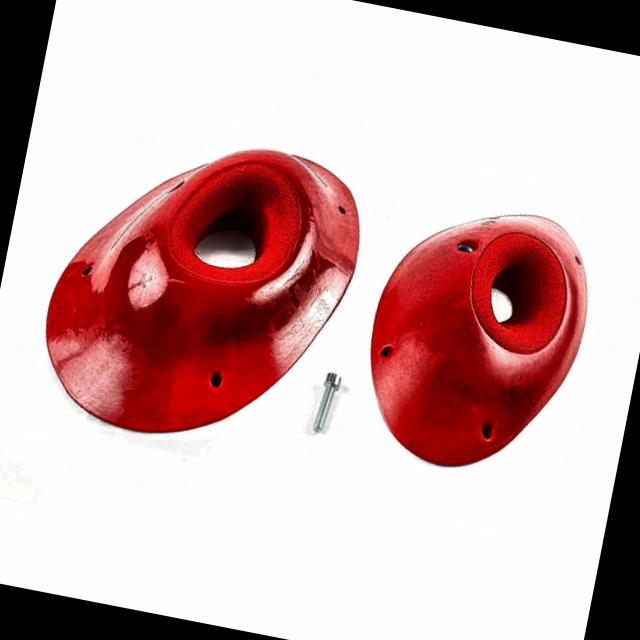Hold: (26, 114, 374, 467), (348, 187, 609, 489)
